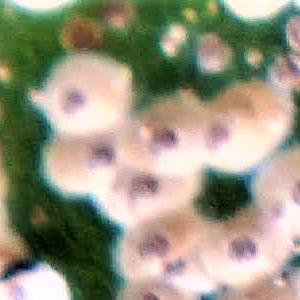Femea: (39, 74, 118, 129), (118, 219, 188, 276), (251, 154, 299, 229), (116, 166, 193, 209), (135, 109, 190, 159), (199, 104, 244, 160), (64, 140, 121, 183), (217, 231, 270, 274), (0, 269, 66, 299)
Linfa: (105, 8, 131, 36), (26, 86, 51, 111), (155, 34, 178, 59), (180, 3, 201, 28), (242, 45, 261, 68), (168, 21, 186, 42), (136, 120, 153, 141)
